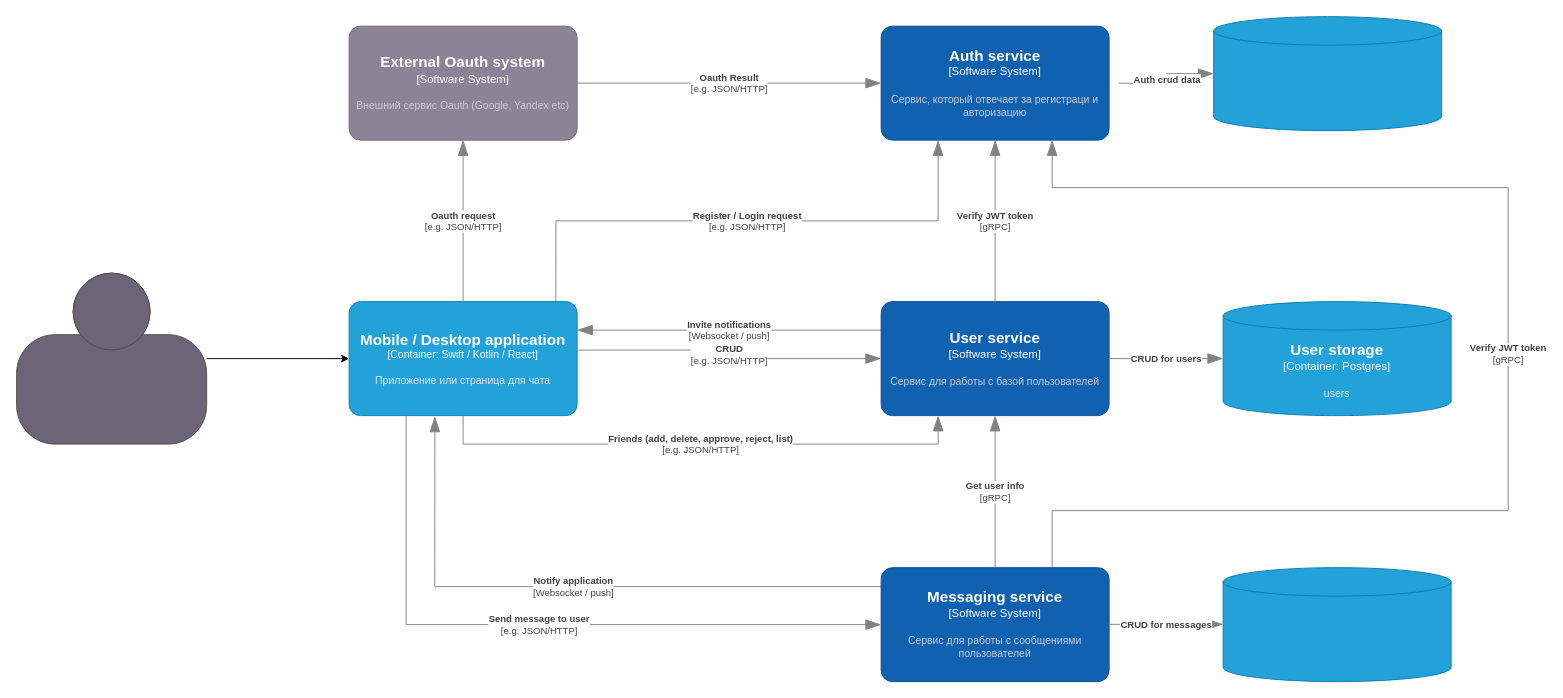
Some shapes in this 1563 by 698 pixel diagram are drawn without their labels. The centre of each missing label's shape, as x and y in pixels:
"Auth storage [Container: Postgres] auths" belongs at [1327,73].
"Messaging storage [Container: Postgres] messaging" belongs at [1336,624].
"User [Person]" belongs at [111,358].
